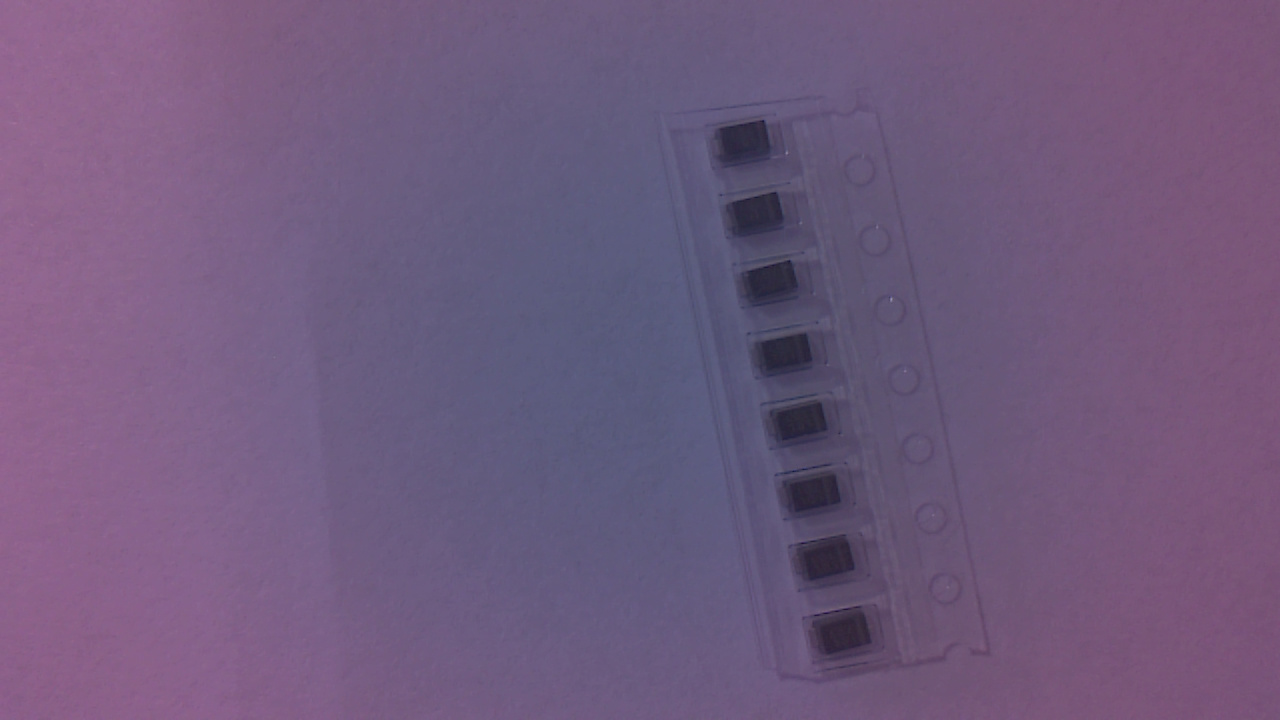Diode: (766, 401, 840, 449), (714, 123, 791, 169), (794, 537, 867, 585), (809, 613, 881, 659), (749, 338, 826, 380), (726, 193, 795, 238), (782, 476, 852, 518), (740, 267, 812, 307)
